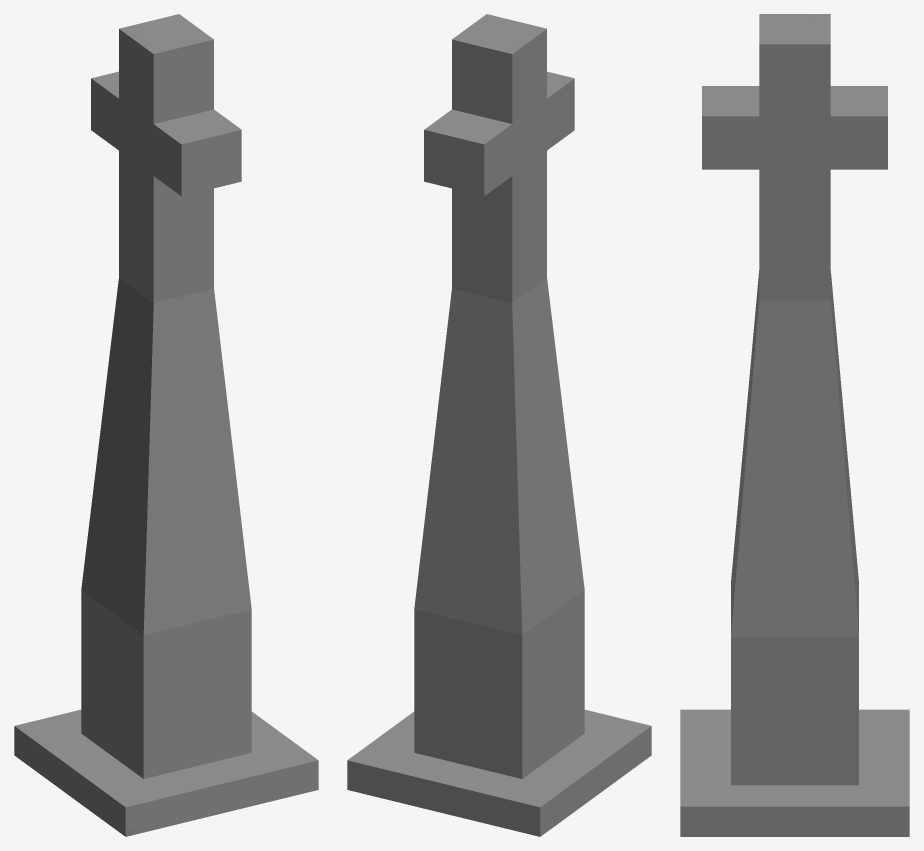
Rendered from StoneUpper2.glb.
3 renders of one model, left to right at view 1: azimuth 30°, elevation 25°; view 2: azimuth 150°, elevation 25°; view 3: azimuth 270°, elevation 25°, orthographic. The views are drawn at different scales.
Parts seen in each view (by area): view 1: Cube; view 2: Cube; view 3: Cube.
Part boxes in pixels (left/top/right/bottom): Cube: left=14, top=14, right=318, bottom=836; Cube: left=347, top=14, right=651, bottom=836; Cube: left=680, top=14, right=909, bottom=836.
Size of the model in its own units: 3.23 by 11.81 by 3.23.
Materials: 1 (1 with a texture image).
